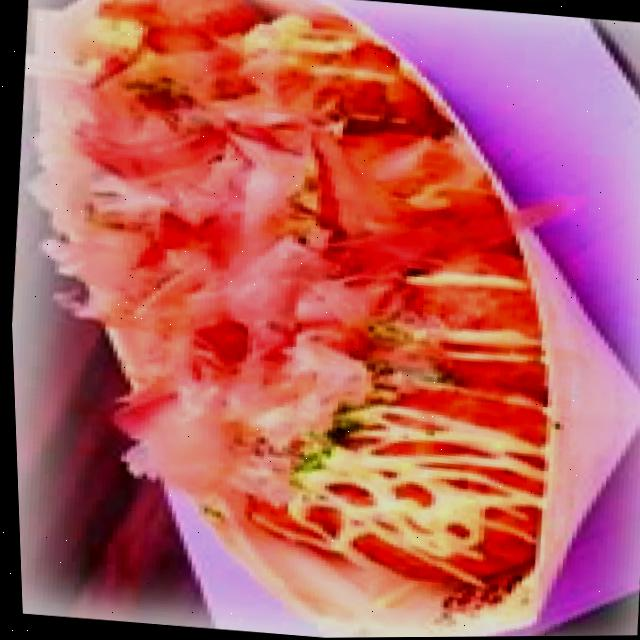炸货点心: (16, 26, 577, 585)
